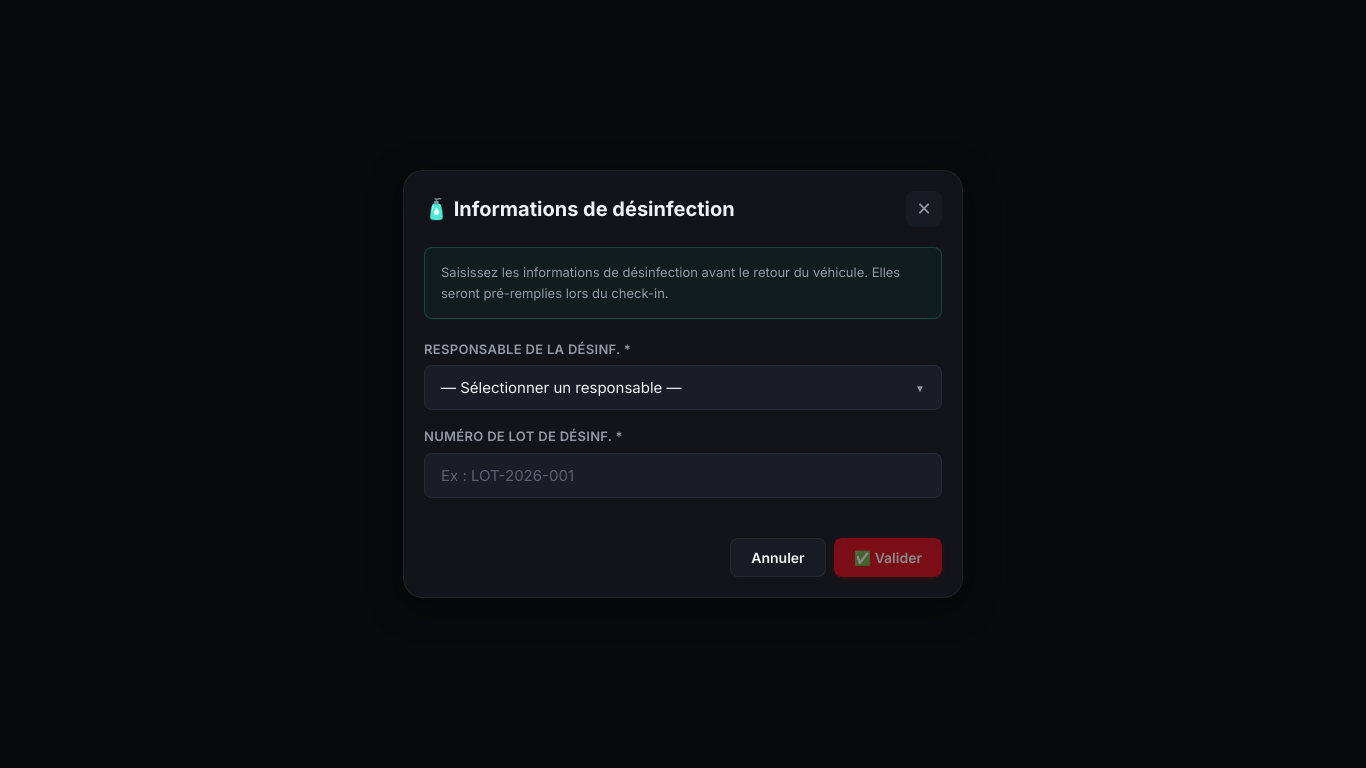
Test case: DesinfPreCheckinModal › affiche une erreur si la sauvegarde échoue
This screenshot has width=1366, height=768.
Click the button "— Sélectionner un responsable — ▼".
click(683, 388)  # box top-left (424, 365), bottom-right (942, 410)
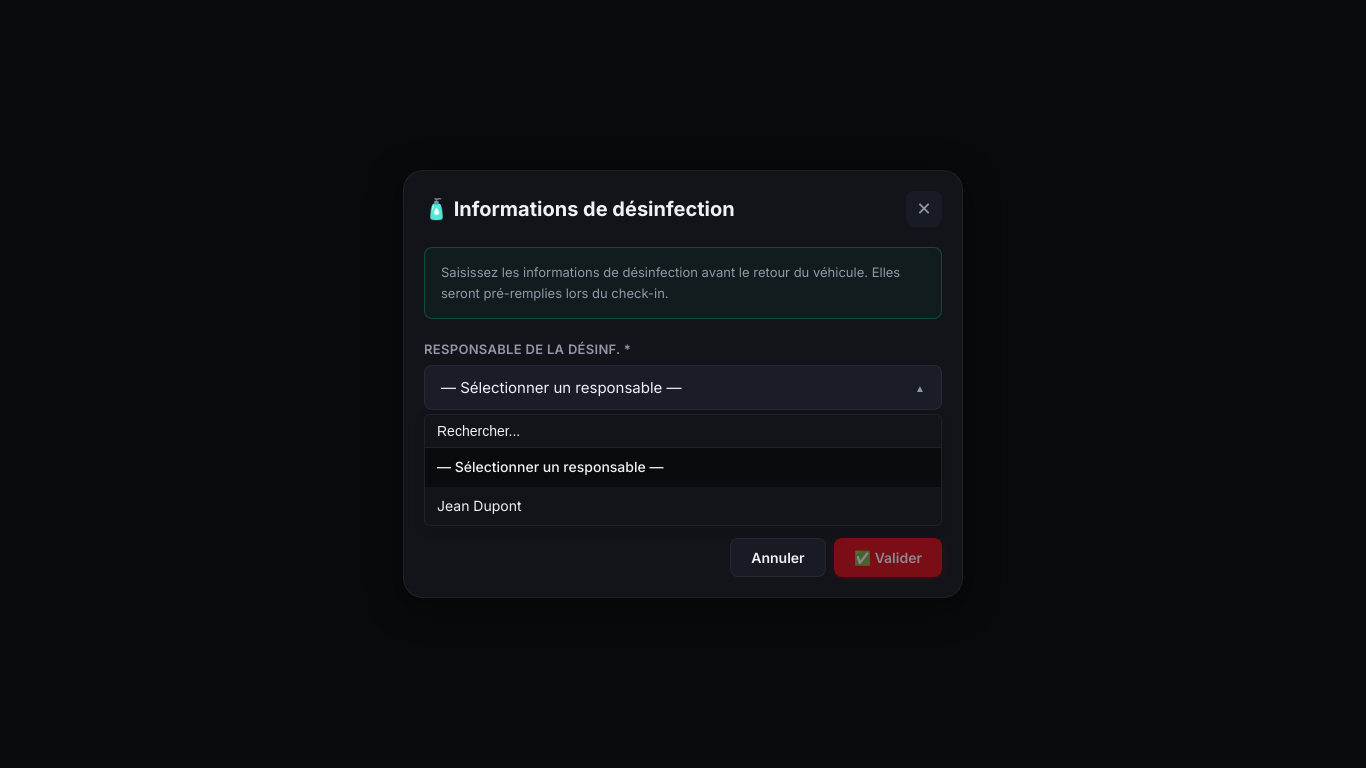
Click the option "Jean Dupont".
click(479, 505)  # box top-left (437, 497), bottom-right (522, 514)
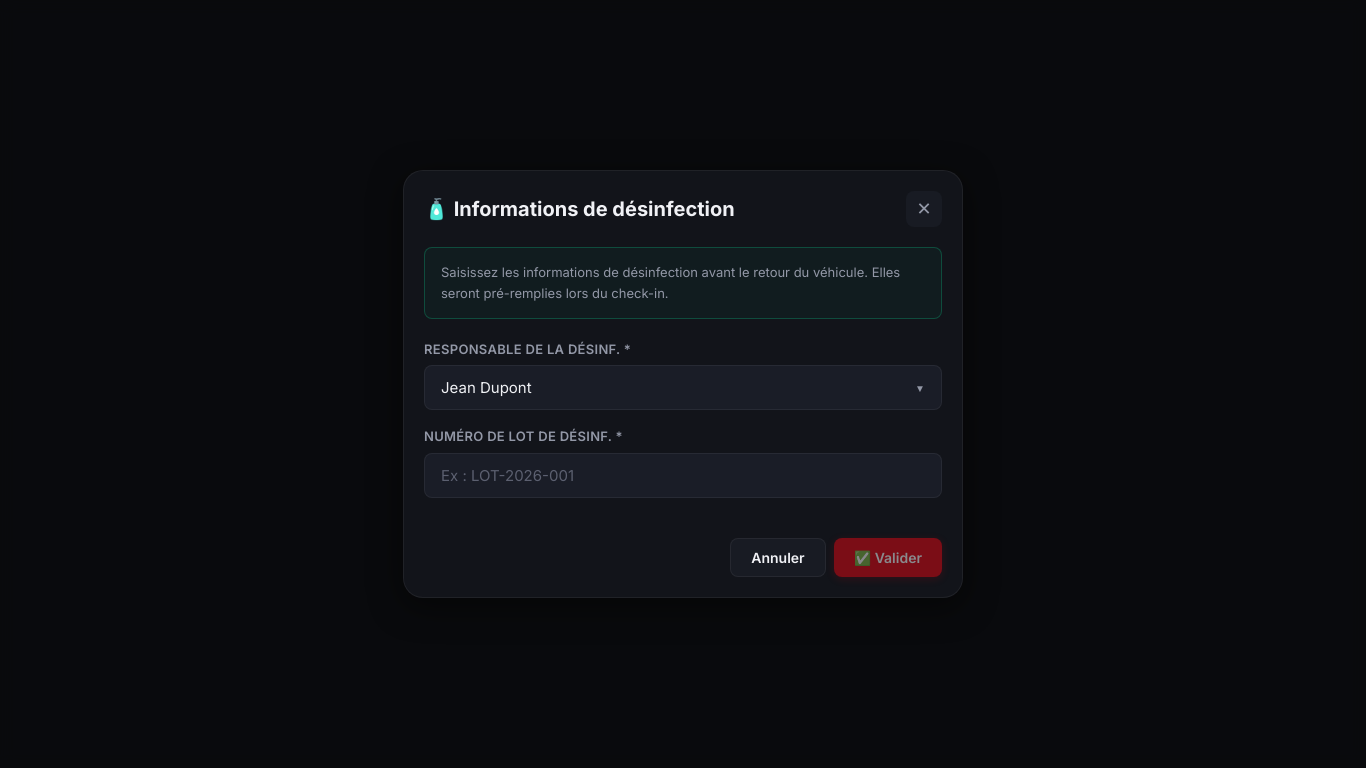
Type "LOT-1" into the field with placeholder "Ex : LOT-2026-001".
click(683, 476); type("LOT-1")  # box top-left (424, 453), bottom-right (942, 498)
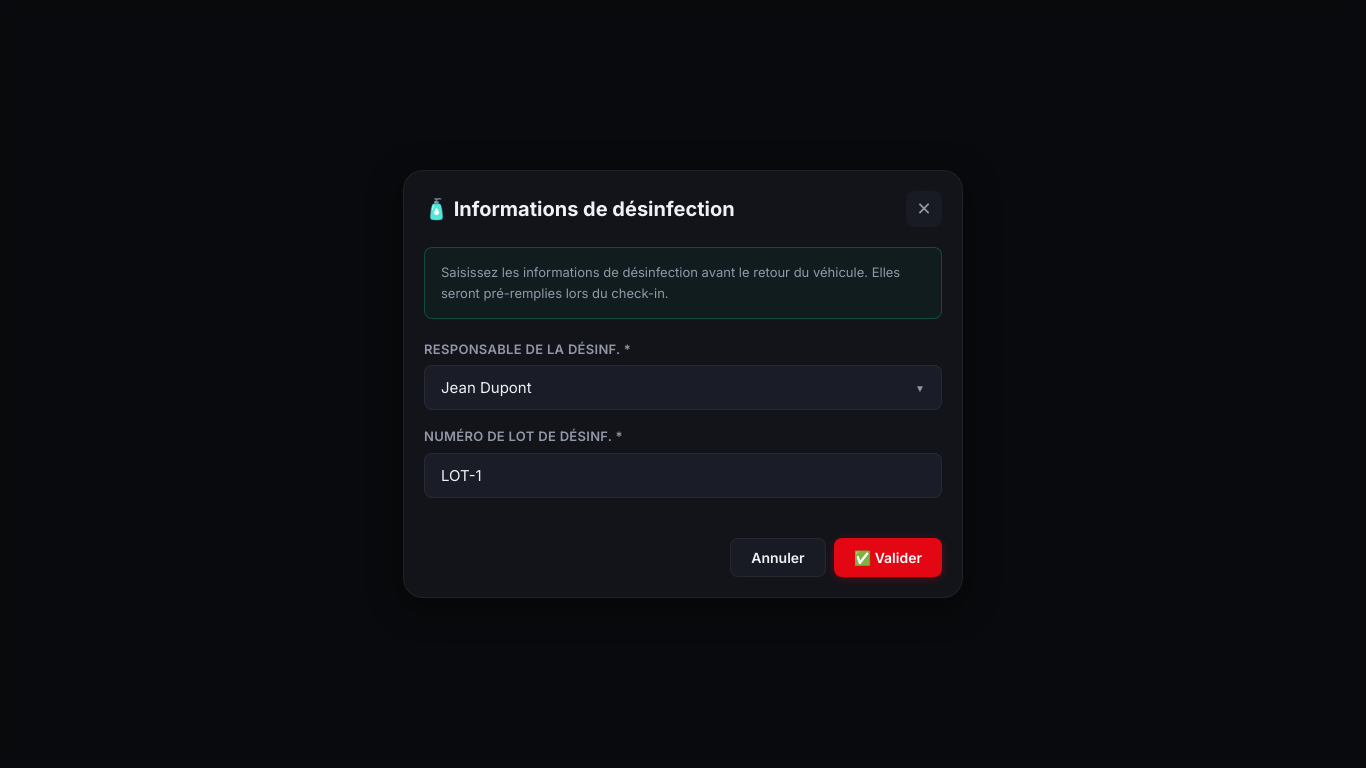
Click the button "✅ Valider".
click(888, 558)  # box top-left (834, 538), bottom-right (942, 577)
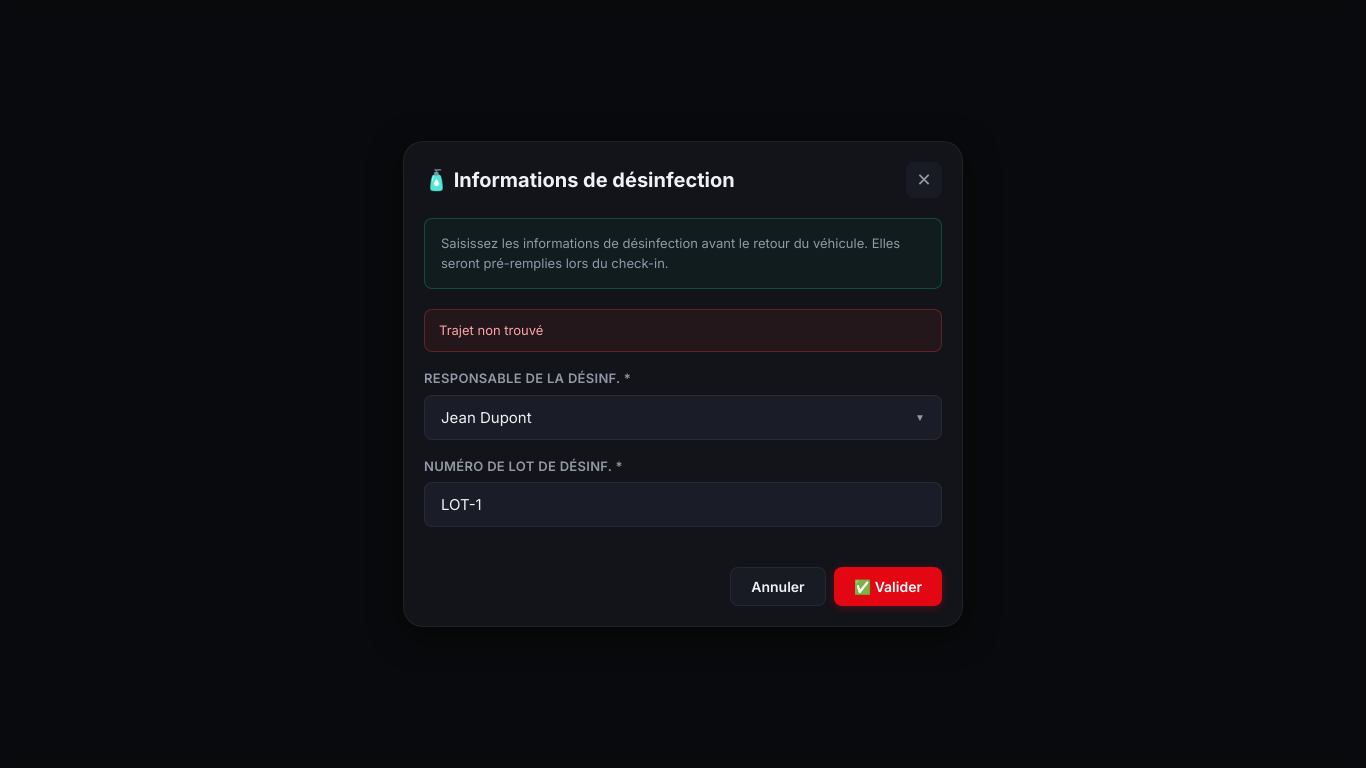
expect the text "Trajet non trouvé" is shown: met, box top-left (424, 309), bottom-right (942, 352)
